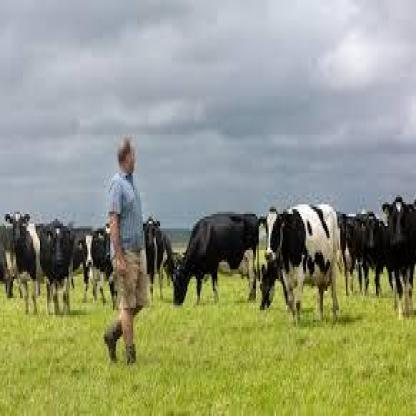cow: (262, 203, 341, 331), (172, 212, 261, 306), (381, 198, 415, 321), (2, 213, 42, 314), (36, 220, 76, 321), (141, 218, 172, 300), (356, 214, 386, 296), (80, 232, 110, 304)
